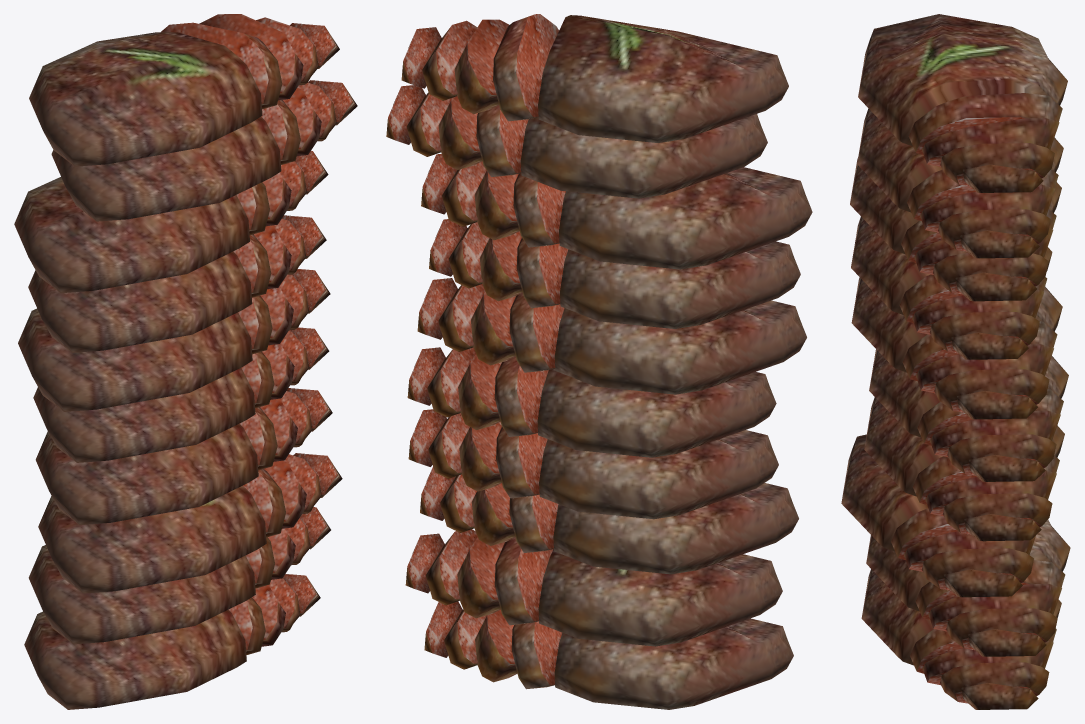
The model's file is MeatStack_CookedBeef.glb.
The picture shows the model from 3 angles, left to right: view 1: azimuth 30°, elevation 25°; view 2: azimuth 150°, elevation 25°; view 3: azimuth 270°, elevation 25°; orthographic projection. The views are drawn at different scales.
Visible parts, largest first — view 1: MeatStack_CookedBeef; view 2: MeatStack_CookedBeef; view 3: MeatStack_CookedBeef.
Boxes of the visible parts, bbox=[...] form: MeatStack_CookedBeef: bbox=[14, 14, 357, 709]; MeatStack_CookedBeef: bbox=[386, 14, 812, 709]; MeatStack_CookedBeef: bbox=[841, 14, 1070, 709].
Bounding box in the file's own units: 0.5426 × 0.9084 × 0.3136.
Materials: 1 (1 with a texture image).
